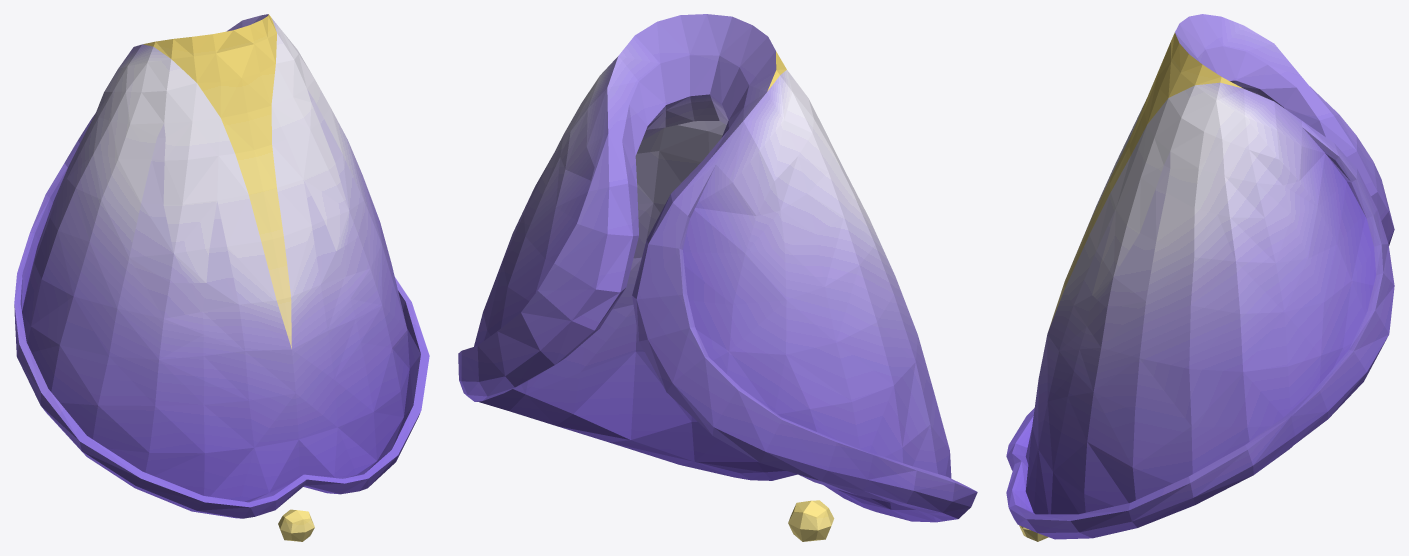
The model's file is CharSkyKid_Wing_Wisteria_01.glb.
3 views of the same model, side by side, from view 1: azimuth 30°, elevation 25°; view 2: azimuth 150°, elevation 25°; view 3: azimuth 270°, elevation 25° (orthographic). The views are drawn at different scales.
Parts seen in each view (by area): view 1: CharSkyKid_Wing_Wisteria_01; view 2: CharSkyKid_Wing_Wisteria_01; view 3: CharSkyKid_Wing_Wisteria_01.
Part boxes in pixels (box(x1,y1,x2,y2)): CharSkyKid_Wing_Wisteria_01: box(14, 14, 429, 541); CharSkyKid_Wing_Wisteria_01: box(458, 14, 977, 541); CharSkyKid_Wing_Wisteria_01: box(1006, 14, 1394, 541).
Size of the model in its own units: 6.58 by 7.9 by 5.47.
1 material, 1 textured.
